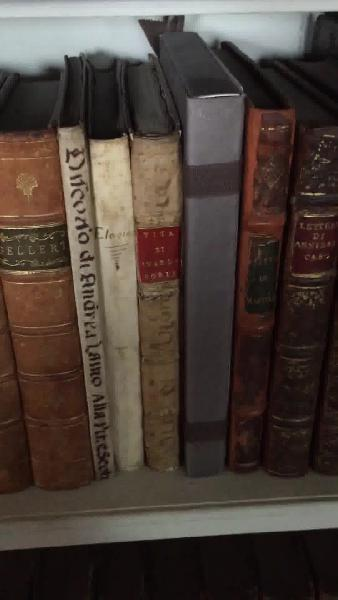Aa6-24: (54, 125, 135, 487)
Aa6-25: (85, 137, 155, 479)
Aa6-26: (131, 130, 182, 474)
Aa6-27: (173, 84, 253, 487)
Aa6-28: (234, 92, 290, 468)
Aa6-29: (269, 123, 338, 487)
